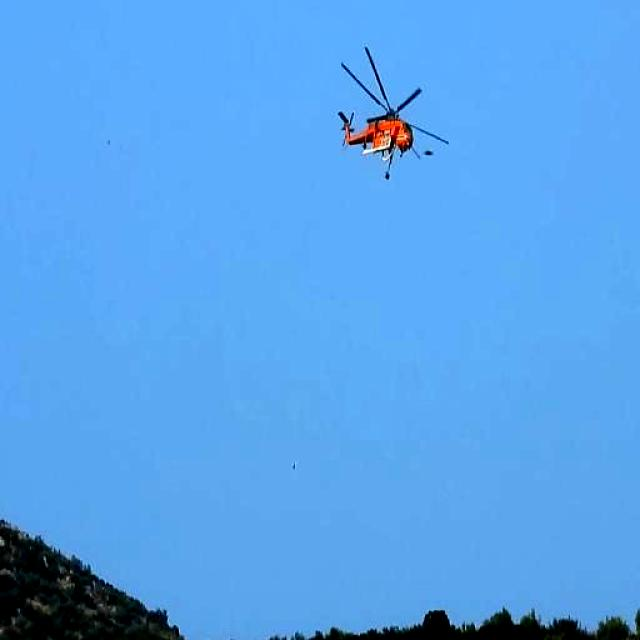drone: (330, 42, 450, 185)
